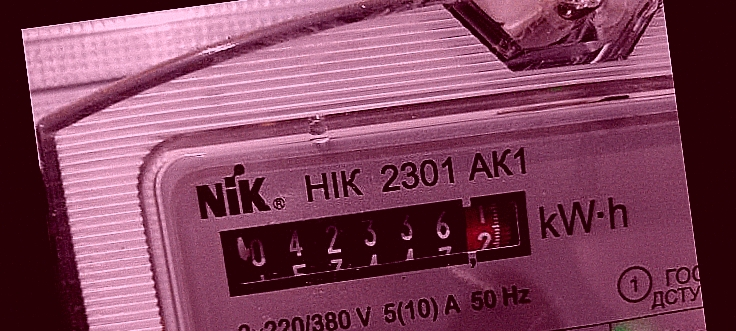0: (244, 234, 267, 269)
1: (471, 199, 487, 226)
2: (319, 220, 344, 256), (473, 229, 492, 252)
3: (356, 215, 378, 249), (394, 210, 415, 243)
4: (283, 225, 304, 259)
6: (429, 207, 454, 243)
screen: (204, 175, 548, 309)
